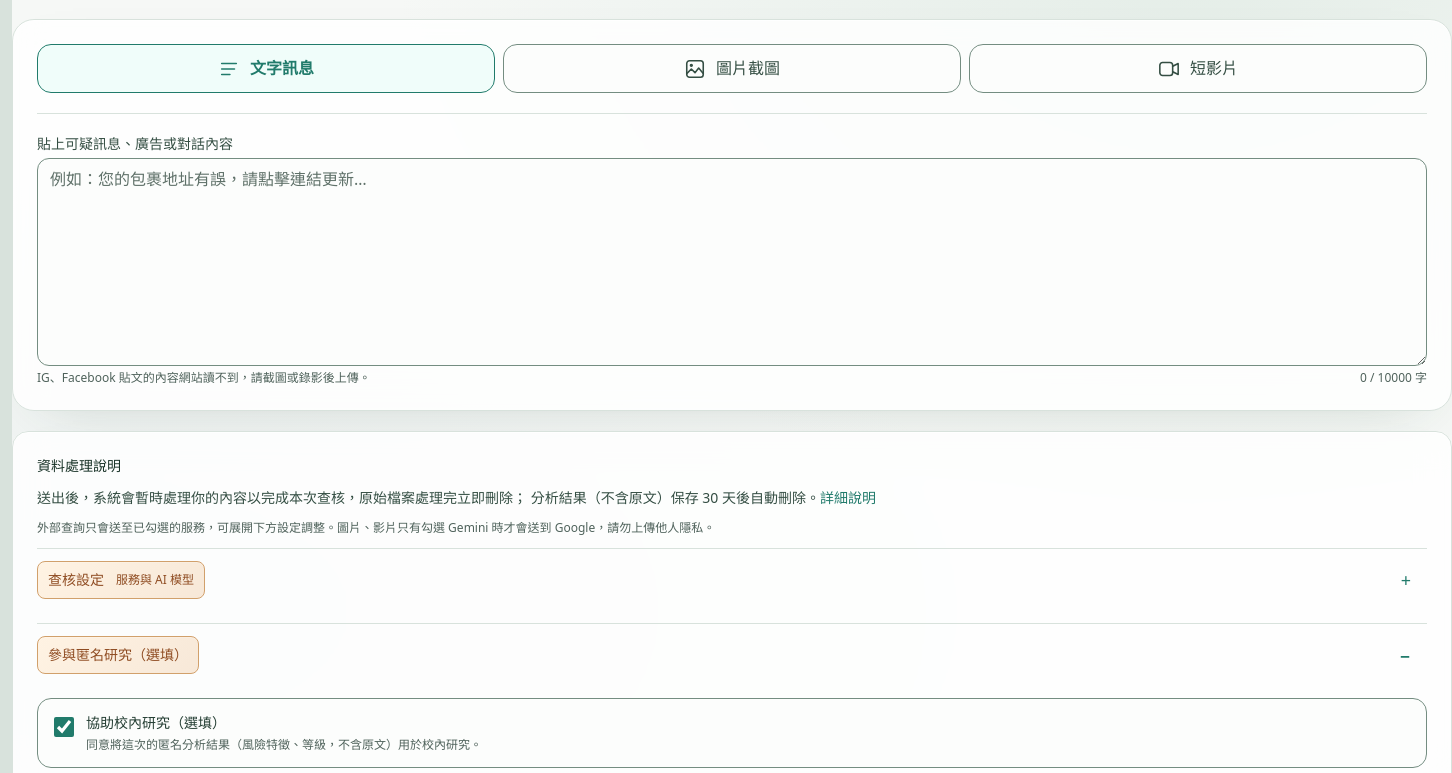
it: 其他服務冷卻 › VirusTotal 這一分鐘用完：變灰並倒數；今日用完的服務顯示已用完
Step 1. Click the heading "查核設定 服務與 AI 模型" → (121, 580), box [37,561,205,599]
(page scrolled)
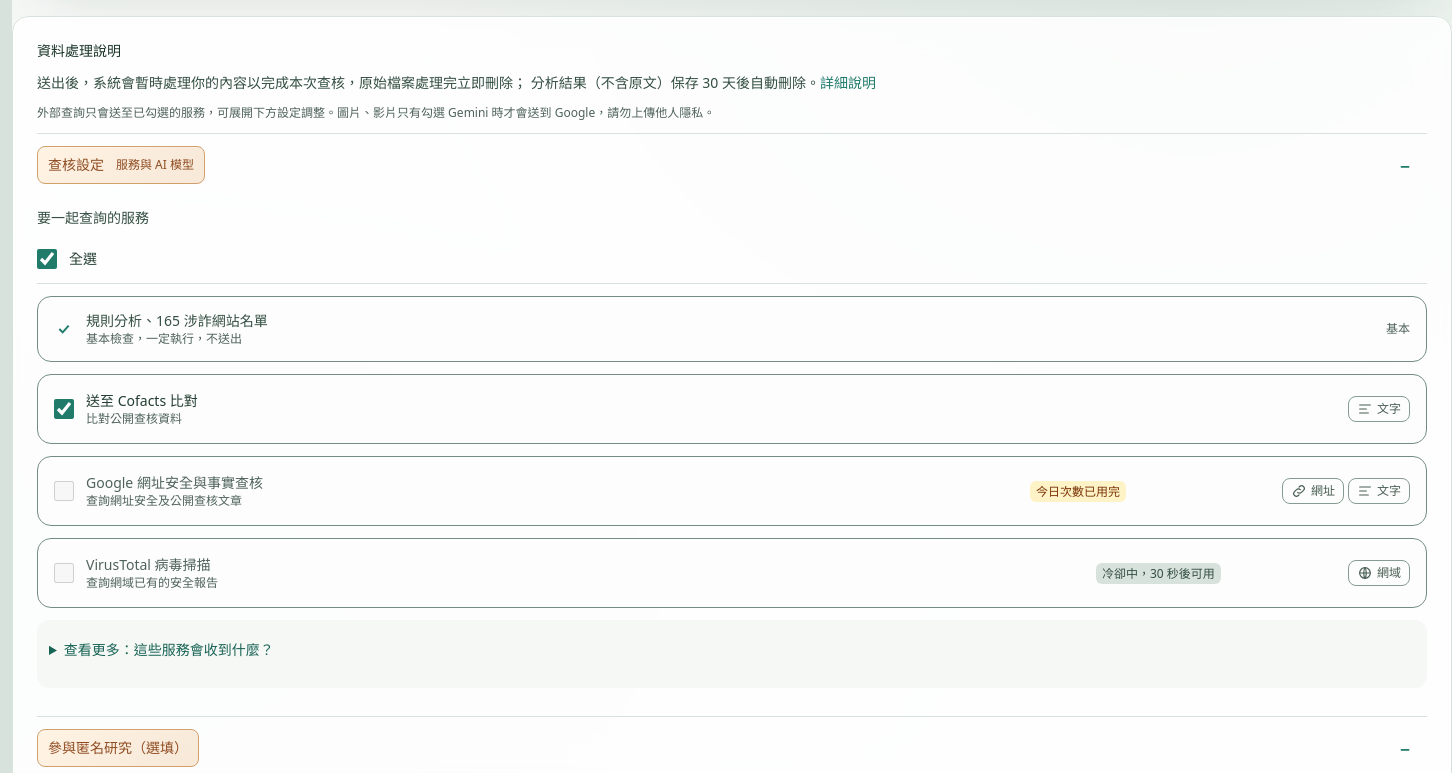
expect the checkbox labelled "VirusTotal 病毒掃描 查詢網域已有的安全報告" is disabled: met, box [54,563,74,583]
expect the text "冷卻中，30 秒後可用" is shown: met, box [1096,563,1221,584]
expect the checkbox labelled "Google 網址安全與事實查核 查詢網址安全及公開查核文章" is disabled: met, box [54,481,74,501]
